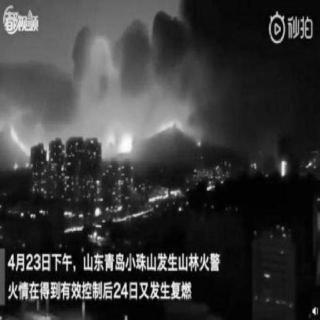Fire: (6, 116, 204, 172)
Smoke: (7, 7, 316, 136)
